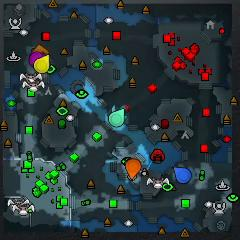p1: (174, 166, 191, 183)
p2: (109, 107, 124, 127)
p3: (29, 52, 44, 67)
p4: (34, 55, 50, 74)
p5: (126, 158, 141, 178)
x3: (112, 104, 127, 118)
x5: (32, 44, 49, 55)
